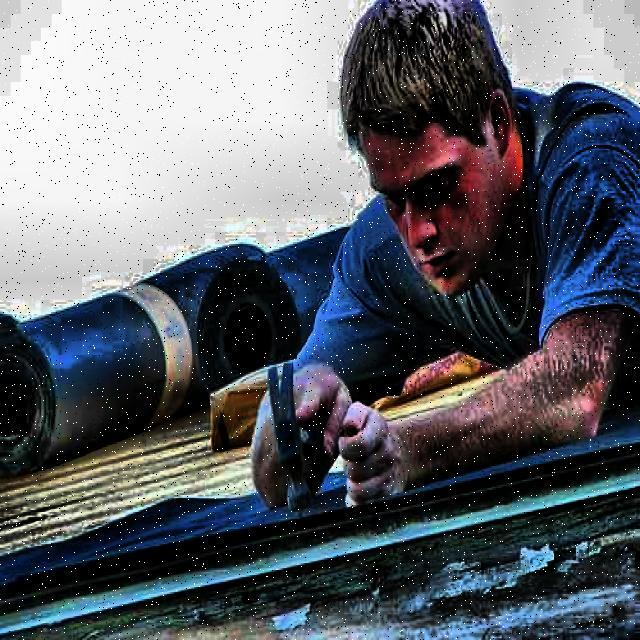hammer: (267, 362, 334, 513)
